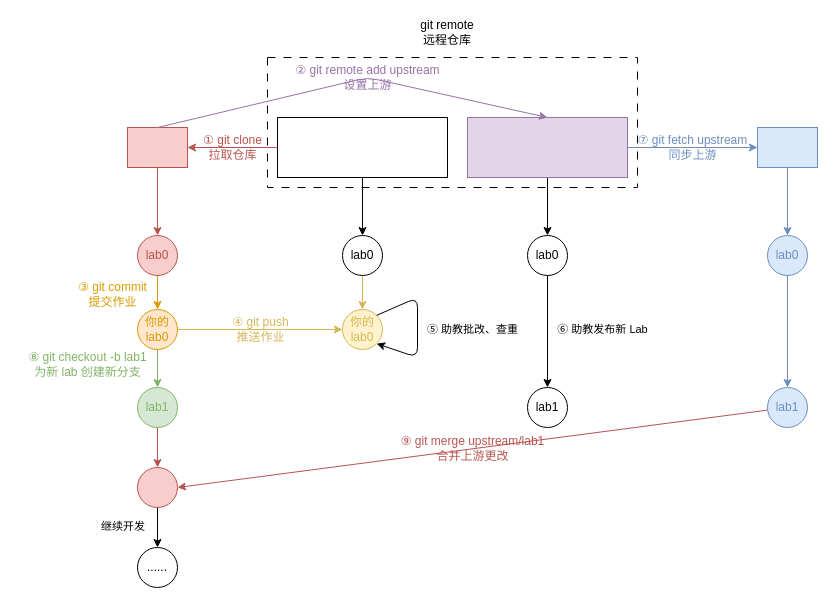
Image size: 835x605. Some labels were removed from this diagram. Here are the shapes that lost their labels. From the top down, the centre of each, then its label:
At (157,147): "本地 origin".
At (362,147): "origin（你的仓库） git@zju.edu.cn:os/2025/...".
At (547,147): "upstream（助教仓库） git@zju.edu.cn:os/code".
At (787,147): "本地 upstream".
At (157,487): "合并的 lab1".
